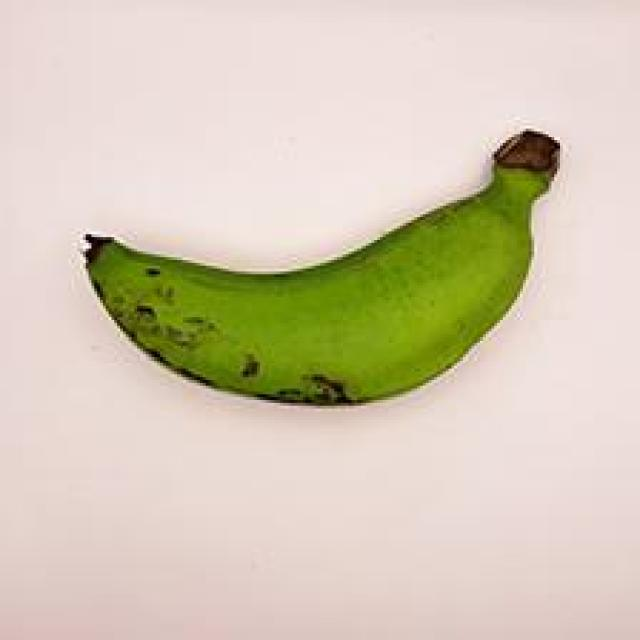Raw: (61, 107, 576, 429)
